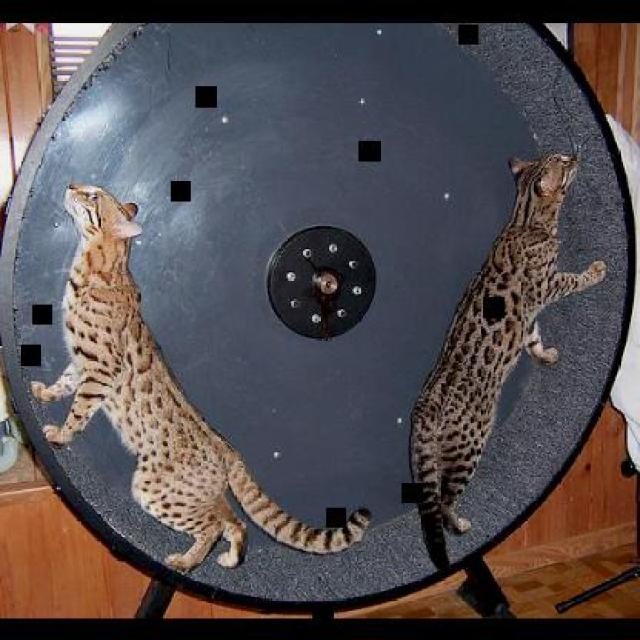unauthorized: (29, 181, 371, 574), (408, 148, 606, 570)
